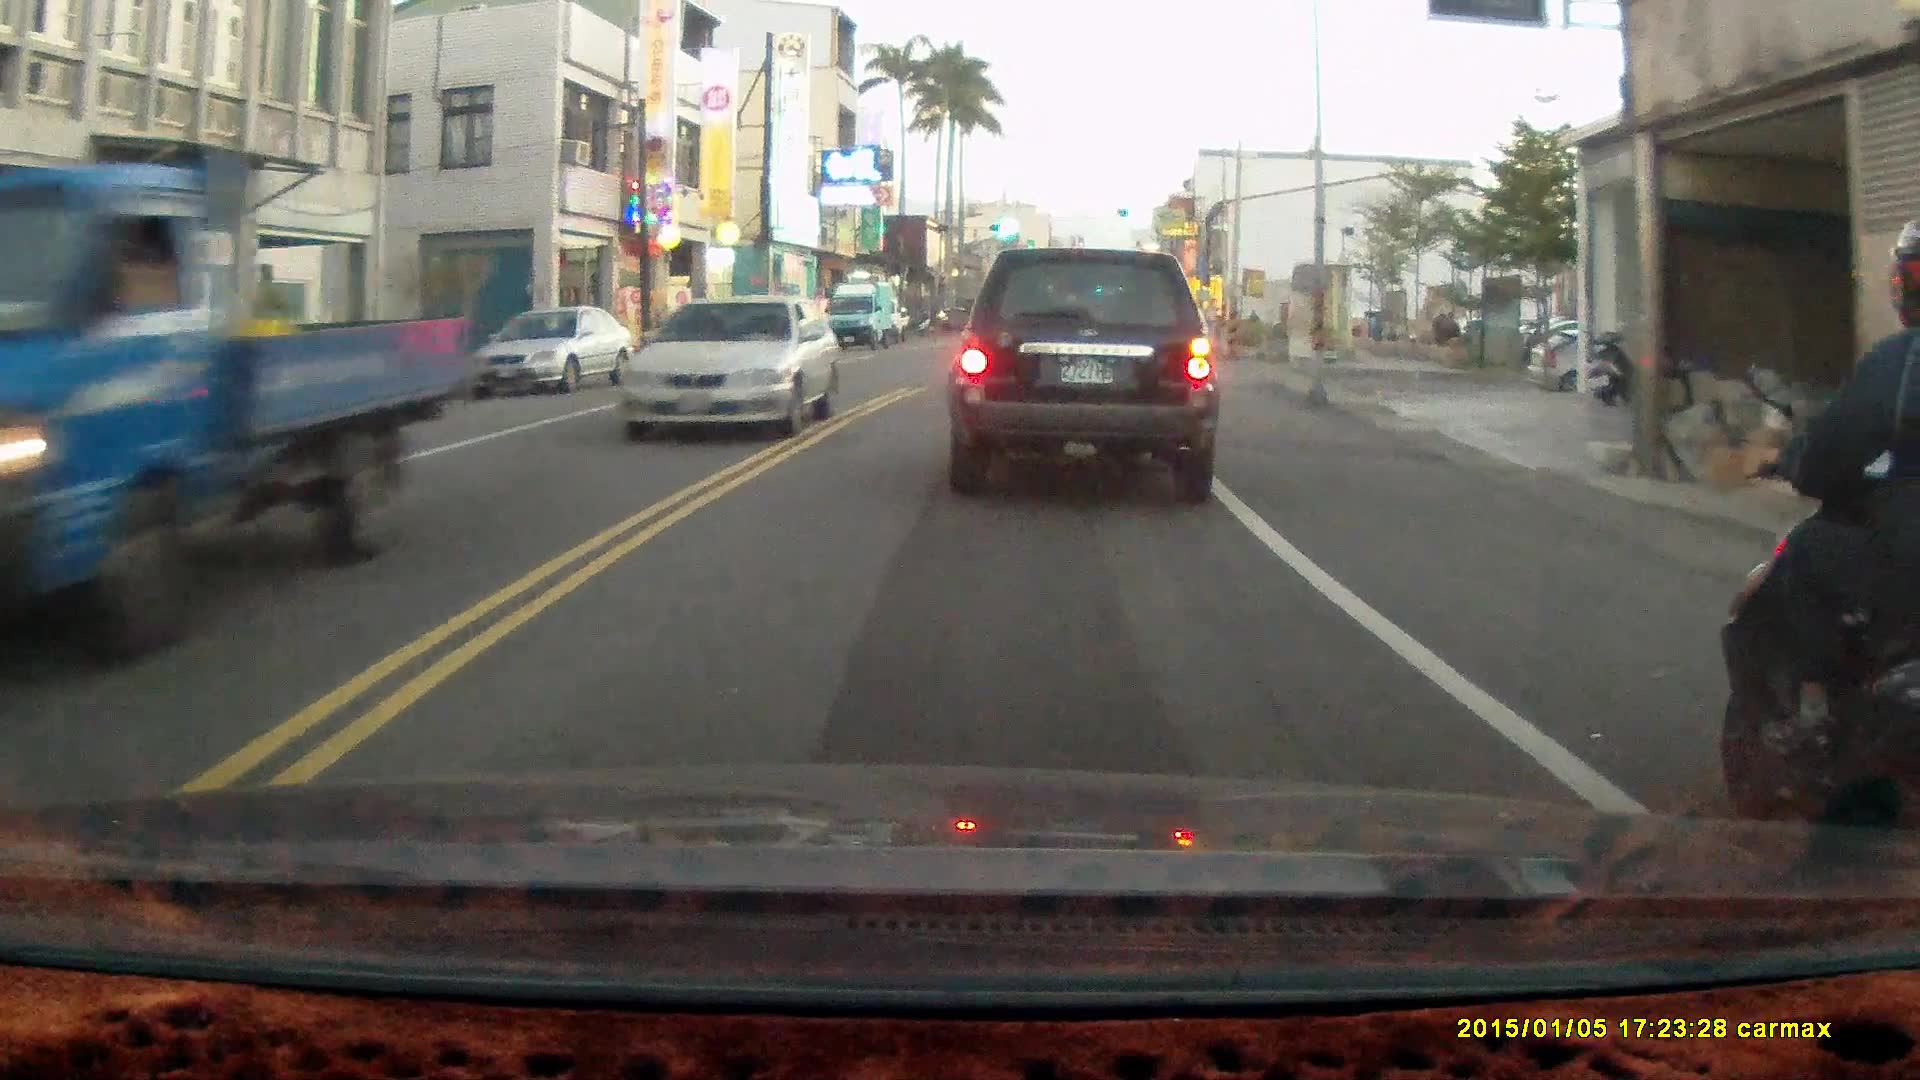rider: (1717, 213, 1920, 902)
vehicle: (1, 162, 475, 641), (944, 242, 1219, 494), (617, 293, 840, 440), (1521, 323, 1722, 402), (465, 303, 634, 396), (823, 280, 905, 354)
